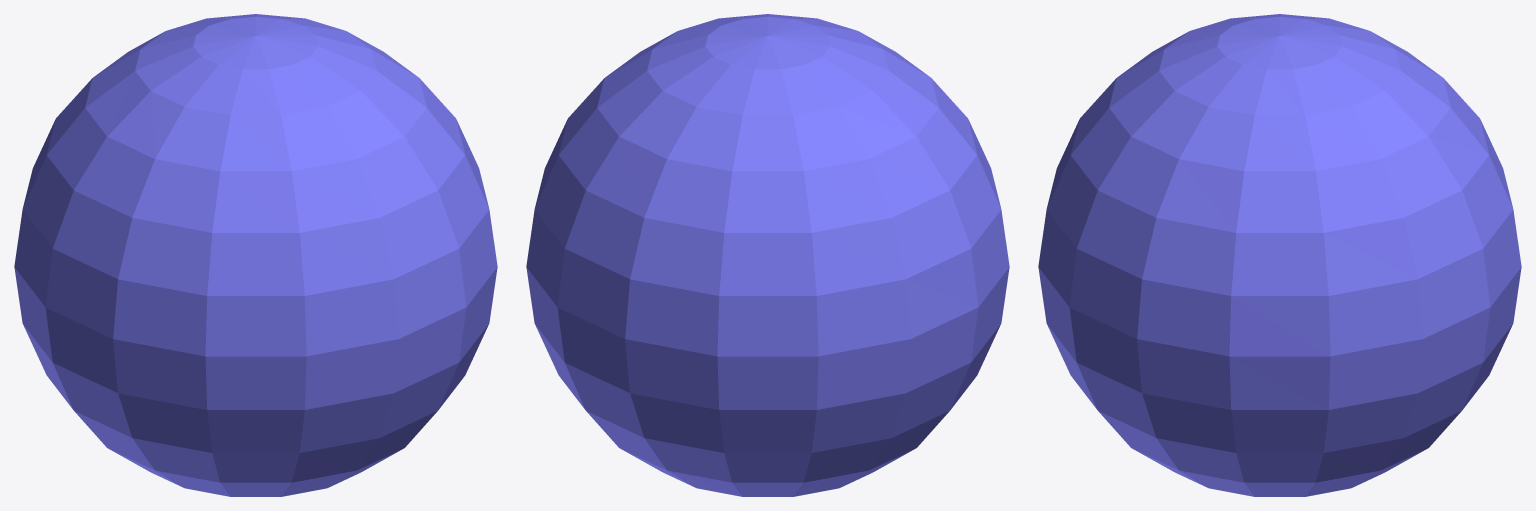
The model's file is blackhole3.obj.
3 renders of one model, left to right at view 1: azimuth 30°, elevation 25°; view 2: azimuth 150°, elevation 25°; view 3: azimuth 270°, elevation 25°, orthographic.
Parts seen in each view (by area): view 1: Sphere; view 2: Sphere; view 3: Sphere.
Boxes of the visible parts, x1,y1,x2,y2 form: Sphere: (14, 14, 497, 496); Sphere: (526, 14, 1009, 496); Sphere: (1038, 14, 1521, 496).
Size of the model in its own units: 3.96 by 4 by 3.98.
Materials: 1 (1 with a texture image).
